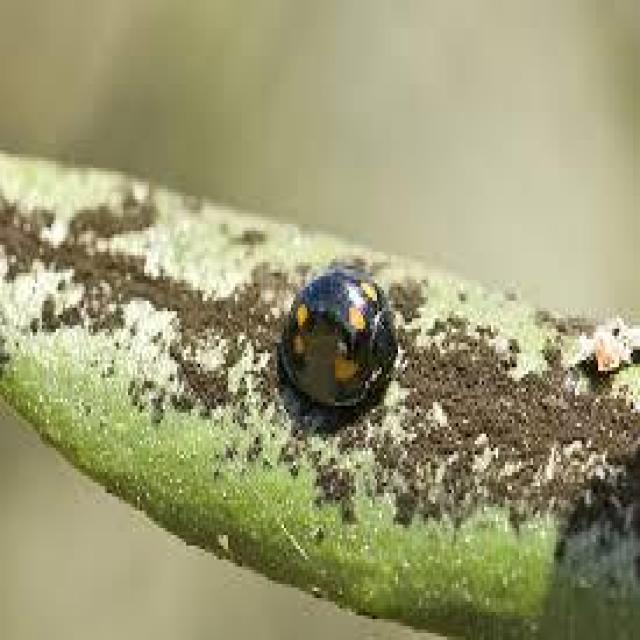Black Scale: (279, 266, 396, 413)
